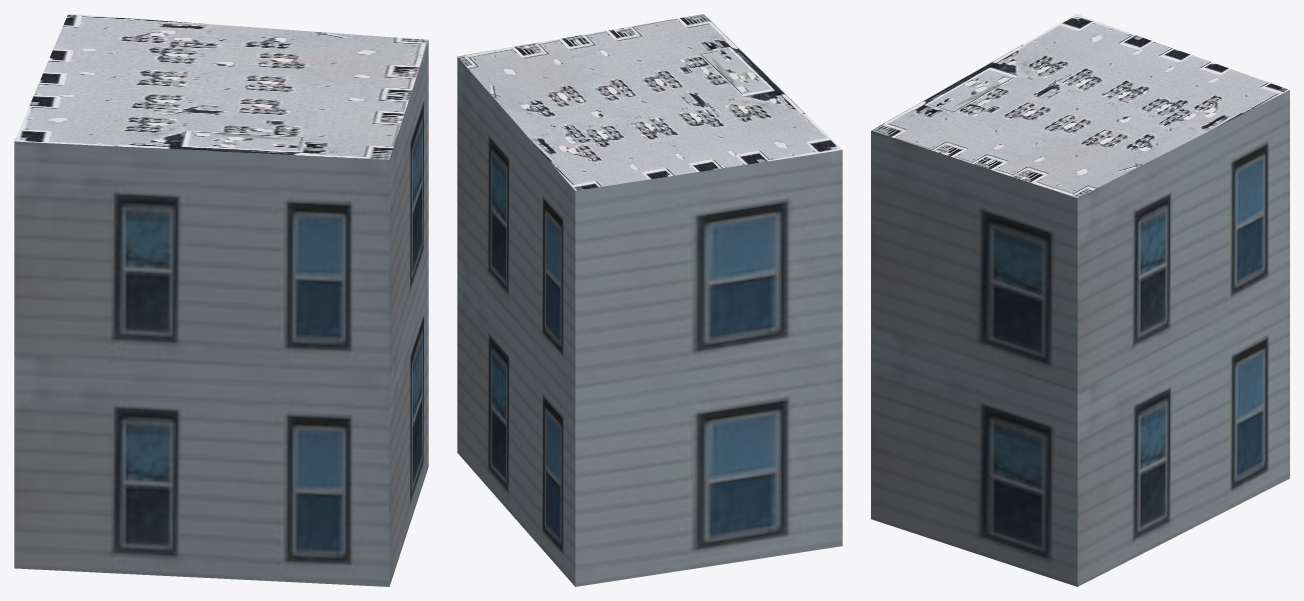
The model's file is ResTex__969.fbx.
3 views of the same model, side by side, from view 1: azimuth 30°, elevation 25°; view 2: azimuth 150°, elevation 25°; view 3: azimuth 270°, elevation 25° (orthographic). The views are drawn at different scales.
Parts seen in each view (by area): view 1: CityEngineMaterial_18_m, CityEngineMaterial_m; view 2: CityEngineMaterial_18_m, CityEngineMaterial_m; view 3: CityEngineMaterial_18_m, CityEngineMaterial_m.
Boxes of the visible parts, <box> form: CityEngineMaterial_18_m: <box>14,40,428,586</box>; CityEngineMaterial_m: <box>14,14,428,159</box>; CityEngineMaterial_18_m: <box>457,57,842,586</box>; CityEngineMaterial_m: <box>457,14,842,190</box>; CityEngineMaterial_18_m: <box>871,90,1289,586</box>; CityEngineMaterial_m: <box>871,14,1289,198</box>.
Size of the model in its own units: 6.1 by 6 by 5.86.
Materials: 2 (2 with a texture image).
